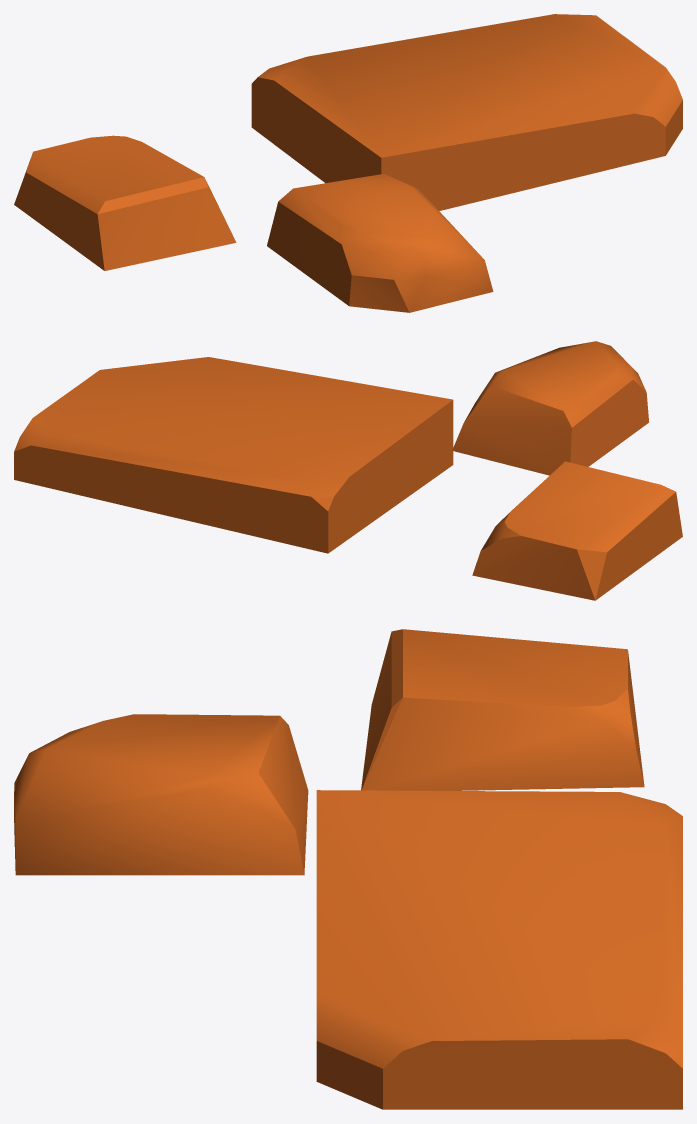
File: OBJ_SmallRock_01.FBX
3 views of the same model, one above another, from view 1: azimuth 30°, elevation 25°; view 2: azimuth 150°, elevation 25°; view 3: azimuth 270°, elevation 25° (orthographic). The views are drawn at different scales.
Visible parts, largest first — view 1: OBJ_SmallRock_01; view 2: OBJ_SmallRock_01; view 3: OBJ_SmallRock_01.
Part boxes in pixels (x1,y1,x2,y2): OBJ_SmallRock_01: (14,14,682,312); OBJ_SmallRock_01: (14,341,682,600); OBJ_SmallRock_01: (14,629,682,1109).
Size of the model in its own units: 8.74 by 1.02 by 6.15.
